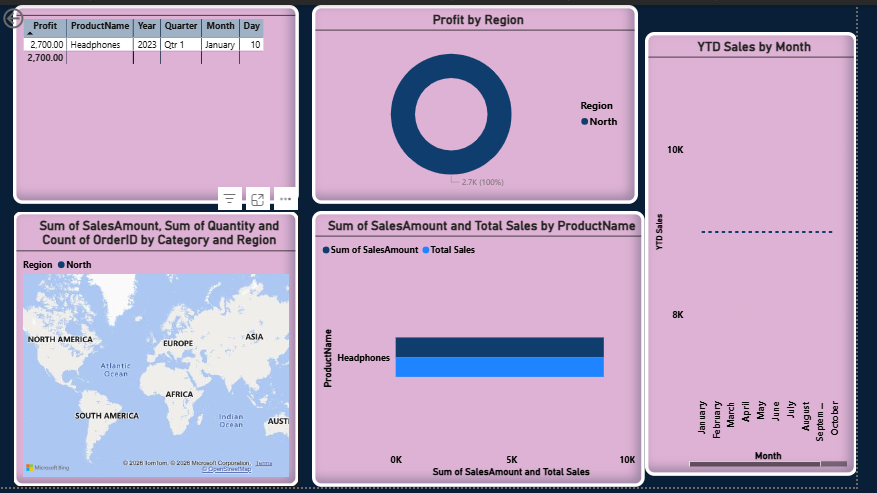

The page's visual inventory and layout, read from the dashboard file:
{"tool":"powerbi","page":{"name":"Region DetaiI","canvas":[1280,720],"ordinal":1},"visuals":[{"type":"tableEx","fields":{"Values":["Sales-2.Profit","Products-3.ProductName","Sales-2.OrderDate.Variation.Date Hierarchy.Year","Sales-2.OrderDate.Variation.Date Hierarchy.Quarter","Sales-2.OrderDate.Variation.Date Hierarchy.Month","Sales-2.OrderDate.Variation.Date Hierarchy.Day"]},"box":[19.4,0,427.2,297.3],"z":0},{"type":"clusteredBarChart","fields":{"Category":["Products-3.ProductName"],"Y":["Sum(Sales-2.SalesAmount)","Sales-2.Total Sales"]},"box":[466.1,307.7,497.4,412.3],"z":1000},{"type":"lineChart","fields":{"Y":["Sales-2.YTD Sales"],"Category":["Date.Date.Variation.Date Hierarchy.Month"]},"box":[963.5,40.3,316.7,663.2],"z":2000},{"type":"actionButton","box":[0,0,100,40],"z":3000},{"type":"donutChart","fields":{"Category":["Sales-2.Region"],"Y":["Sales-2.Profit"]},"box":[466.1,0,487,297.3],"z":4000},{"type":"map","fields":{"Series":["Sales-2.Region"],"Size":["Sum(Sales-2.SalesAmount)"],"Category":["Products-3.Category"]},"box":[19.4,307.7,427.2,412.3],"z":5000}]}

Visuals, with their boxes in screenshot pixels (x1, y1, x2, y2), scaled from the page's 1280x720 canvas onto the 877x493 screenshot:
tableEx - Sales-2.Profit x Products-3.ProductName: l=13, t=0, r=306, b=204
clusteredBarChart - Products-3.ProductName x Sum(Sales-2.SalesAmount): l=319, t=211, r=660, b=492
lineChart - Sales-2.YTD Sales x Date.Date.Variation.Date Hierarchy.Month: l=660, t=28, r=876, b=482
actionButton: l=0, t=0, r=69, b=27
donutChart - Sales-2.Region x Sales-2.Profit: l=319, t=0, r=653, b=204
map - Sales-2.Region x Sum(Sales-2.SalesAmount): l=13, t=211, r=306, b=492
